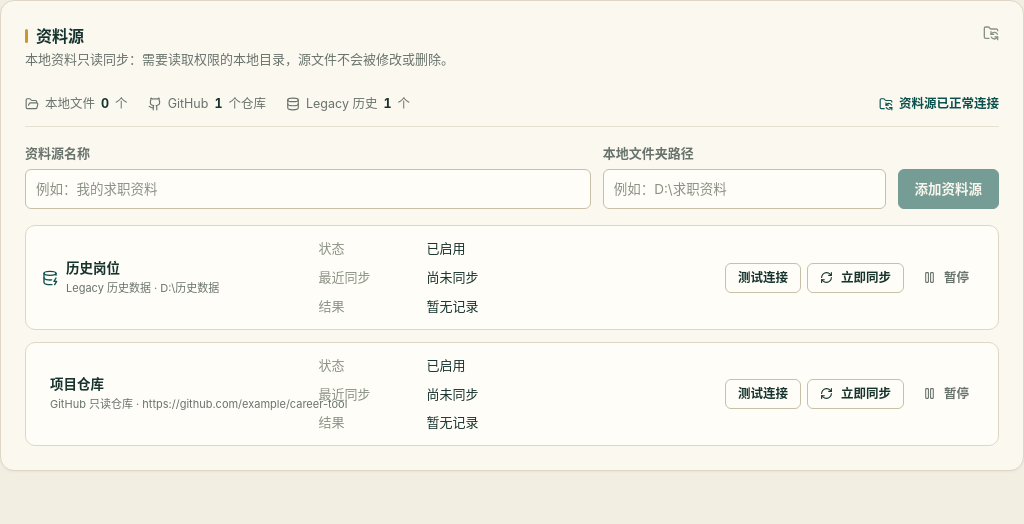
Test: 正确展示 Legacy 与 GitHub 资料源并区分网络验证状态
Expected: the text "Legacy 历史数据 · D:\\历史数据" is shown, [66,280,219,297]
Expected: the text "GitHub 只读仓库 · https://github.com/example/career-tool" is shown, [50,396,347,414]
Click the button "测试连接" in the row of "https://github.com/example/career-tool" at (763, 394), box [725,379,801,409]
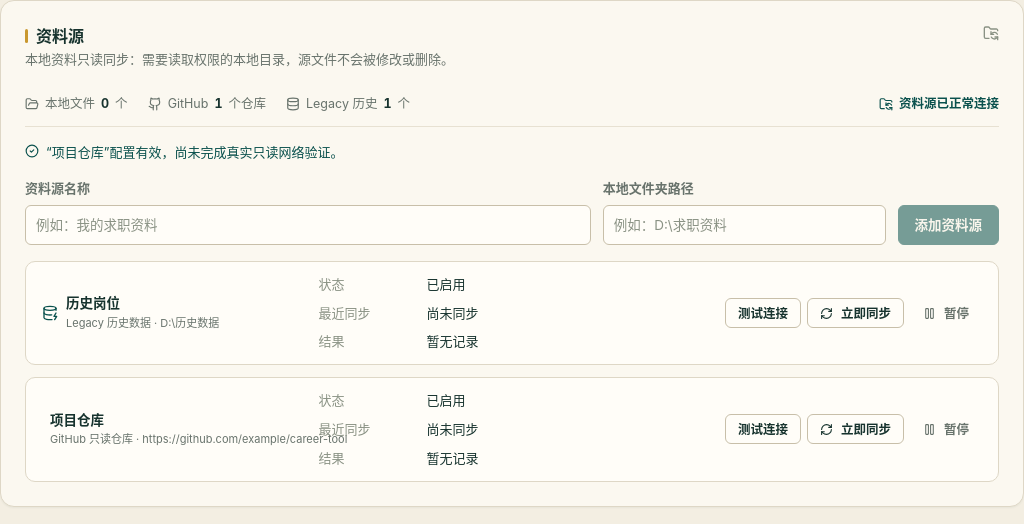
Result: the text "“项目仓库”配置有效，尚未完成真实只读网络验证。" is shown at [46,142,344,162]
